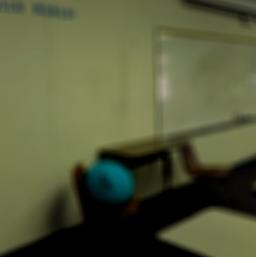algae: (84, 156, 136, 204)
